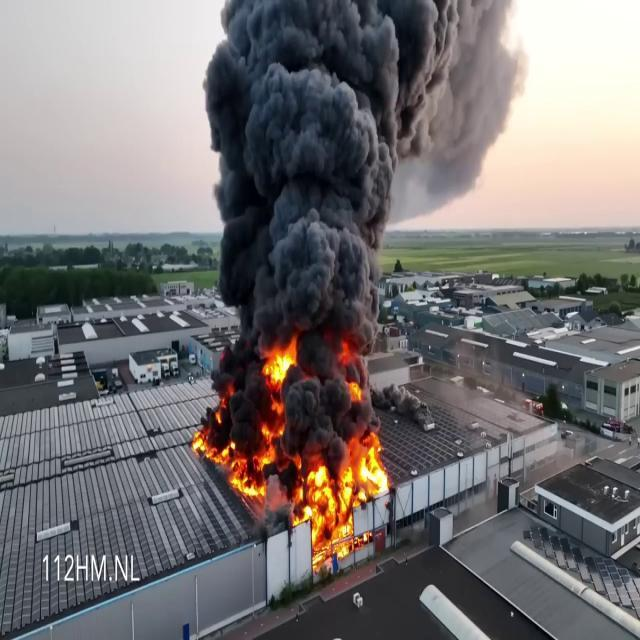Fire: (294, 429, 390, 563), (190, 415, 260, 502)
Smoke: (194, 1, 528, 427)
